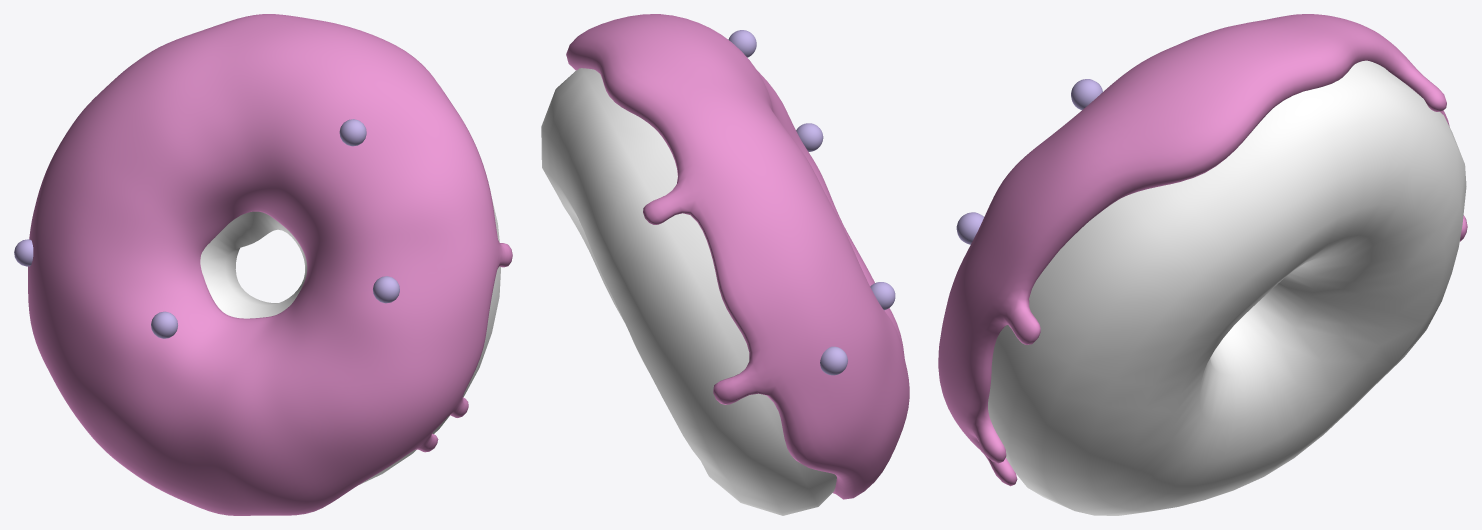
Rendered from donat.glb.
3 views of the same model, side by side, from view 1: azimuth 30°, elevation 25°; view 2: azimuth 150°, elevation 25°; view 3: azimuth 270°, elevation 25° (orthographic). The views are drawn at different scales.
Parts seen in each view (by area): view 1: icing, donat, Sphere.001, Sphere.003, Sphere.002; view 2: icing, donat, Sphere, Sphere.002, Sphere.001, Sphere.003; view 3: donat, icing, Sphere.001, Sphere.002.
Part boxes in pixels (<box>): icing: <box>28,14,512,515</box>; donat: <box>200,200,500,484</box>; Sphere.001: <box>339,119,366,146</box>; Sphere.003: <box>151,311,177,338</box>; Sphere.002: <box>373,276,399,303</box>; icing: <box>566,14,909,499</box>; donat: <box>541,68,836,515</box>; Sphere: <box>820,346,847,375</box>; Sphere.002: <box>796,123,823,151</box>; Sphere.001: <box>728,30,756,57</box>; Sphere.003: <box>870,282,895,310</box>; donat: <box>988,60,1466,515</box>; icing: <box>938,14,1467,486</box>; Sphere.001: <box>1071,79,1102,110</box>; Sphere.002: <box>956,212,983,244</box>.
Bounding box in the file's own units: 0.0862 × 0.0962 × 0.091.
